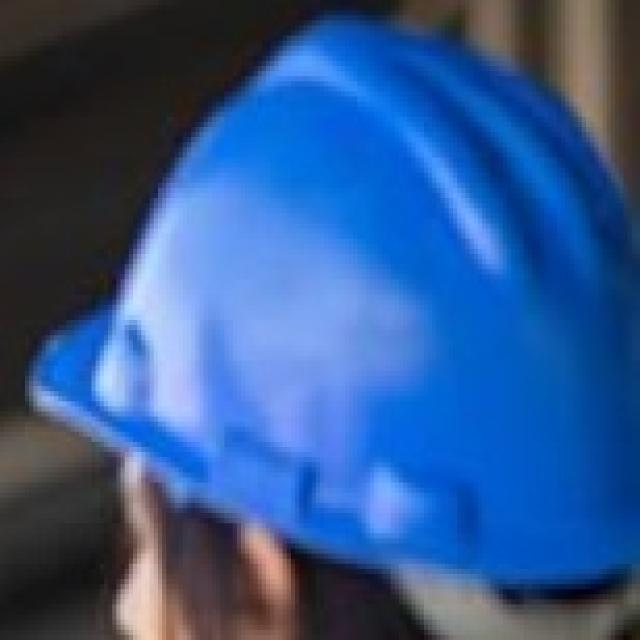helmet_blue: (4, 2, 636, 638)
